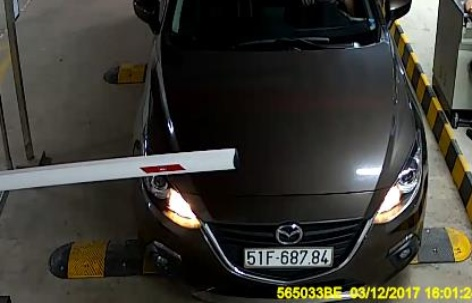plate: (235, 243, 339, 270)
